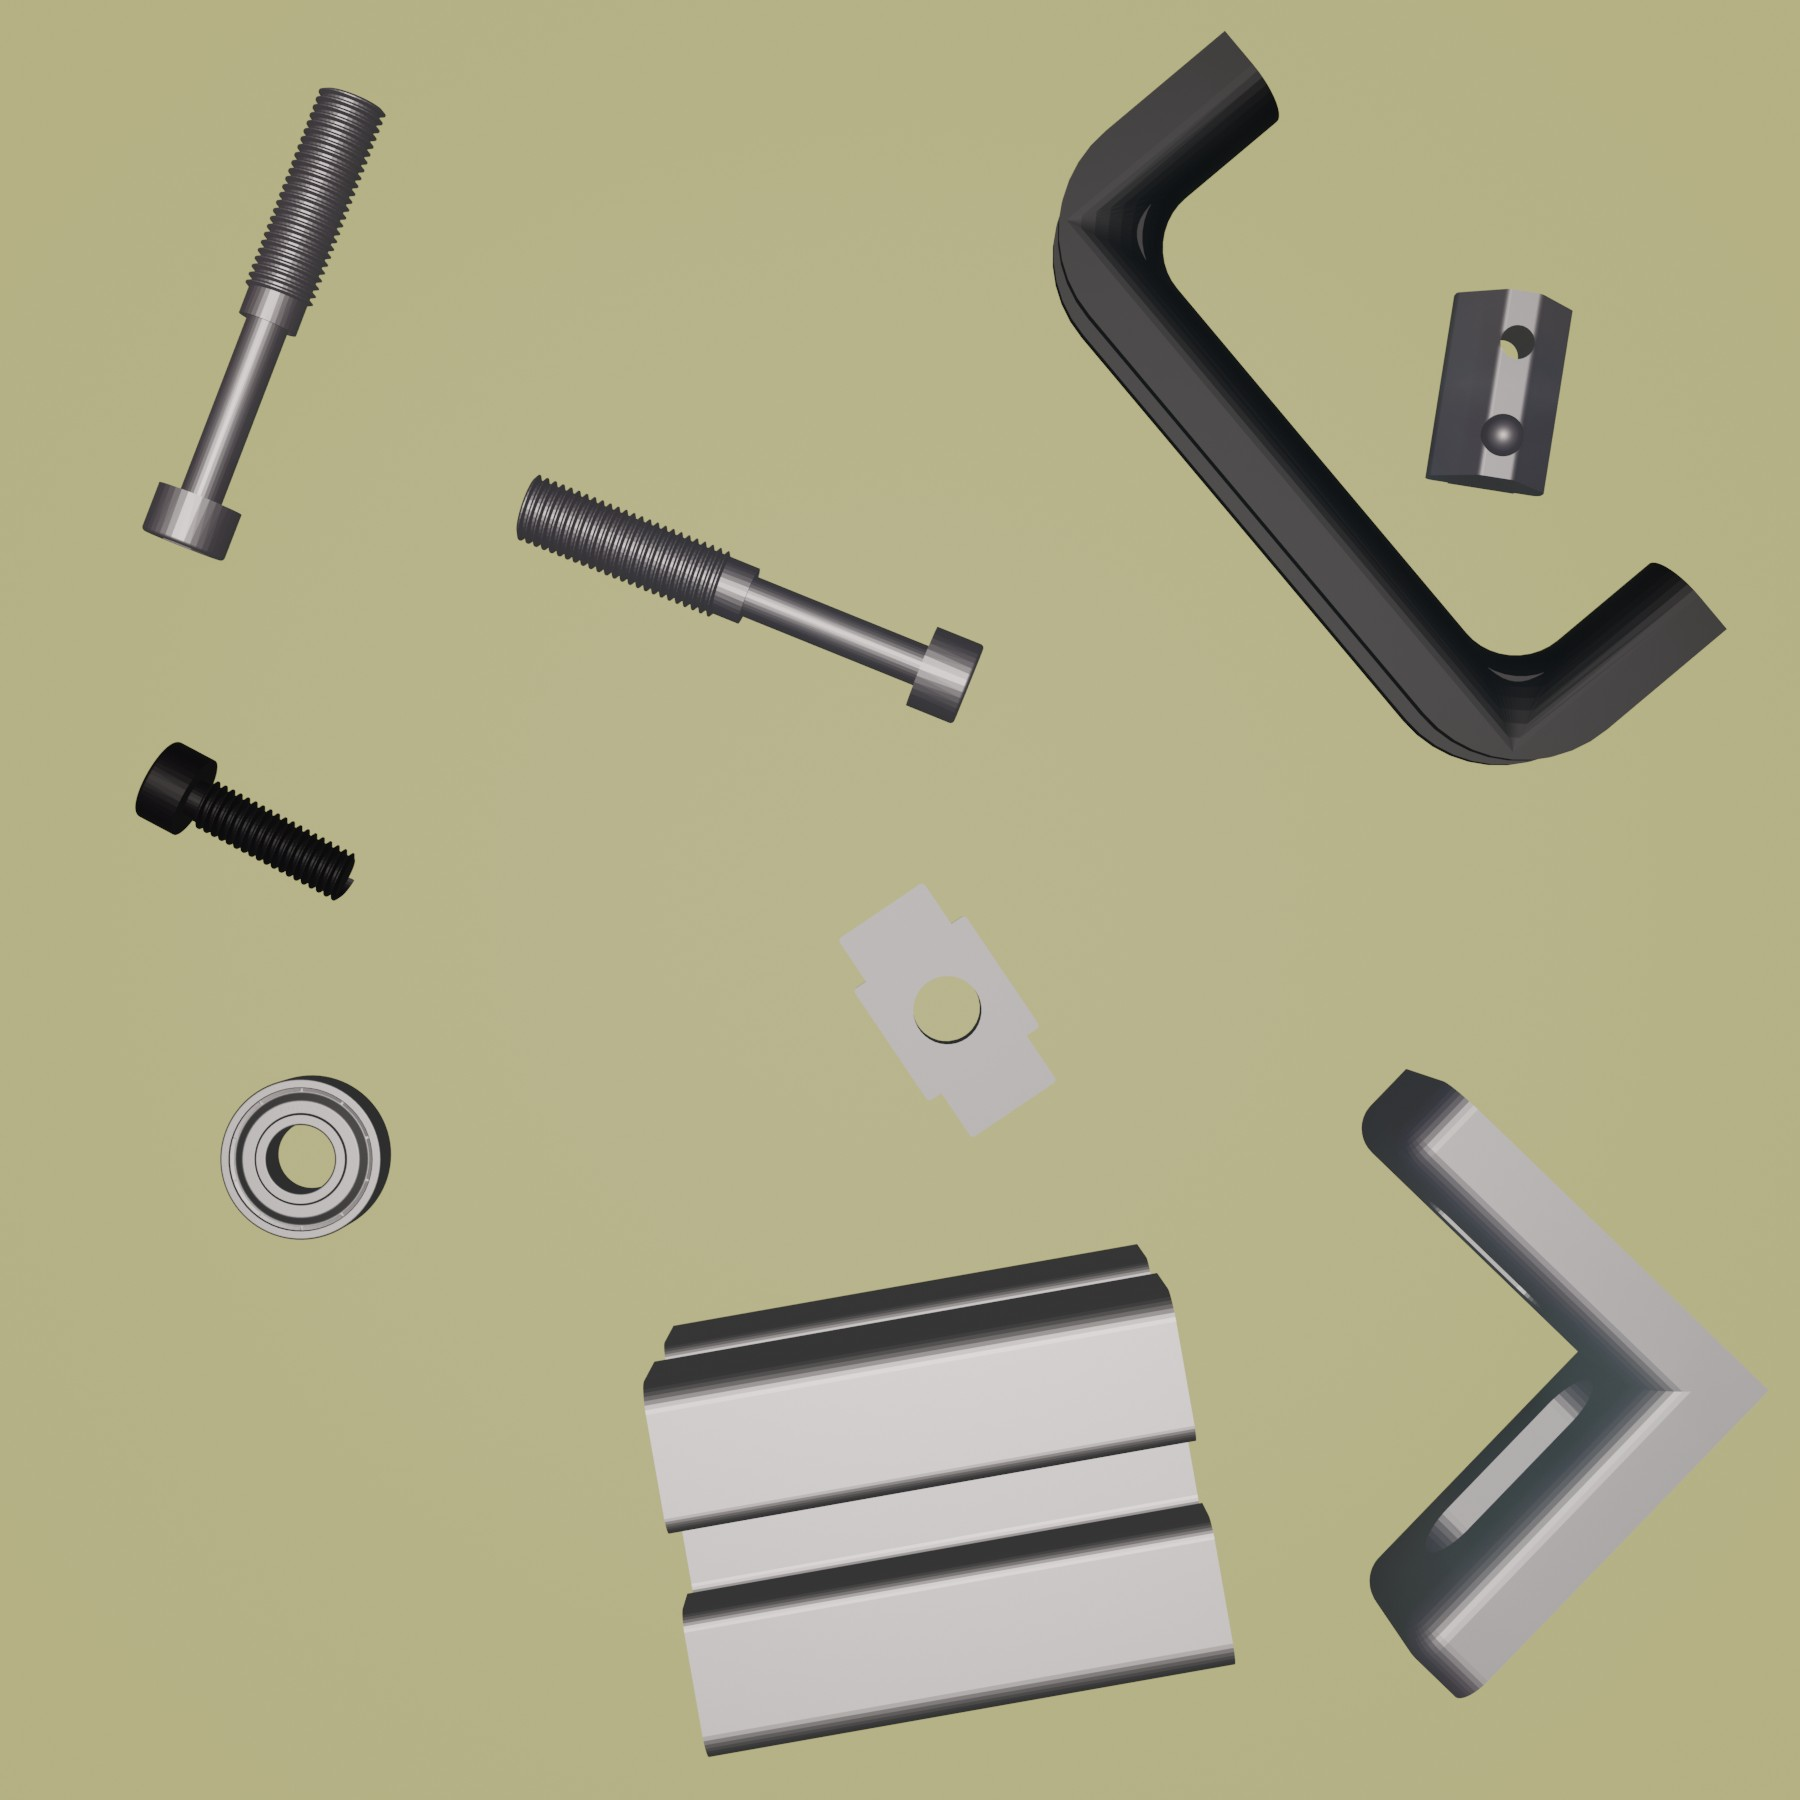Aluminium Extension: (638, 1235, 1240, 1762)
Ball Bearing: (218, 1073, 394, 1245)
Multiwinkel: (1358, 1063, 1770, 1701)
Pull Handle: (1050, 31, 1724, 768)
Shoulder Socket Head Cap Screw: (511, 473, 986, 730), (140, 82, 389, 562)
Socket Head Cap Screw: (132, 738, 359, 907)
T Nut Square: (829, 879, 1066, 1146)
T Spring Nut: (1421, 284, 1576, 498)
